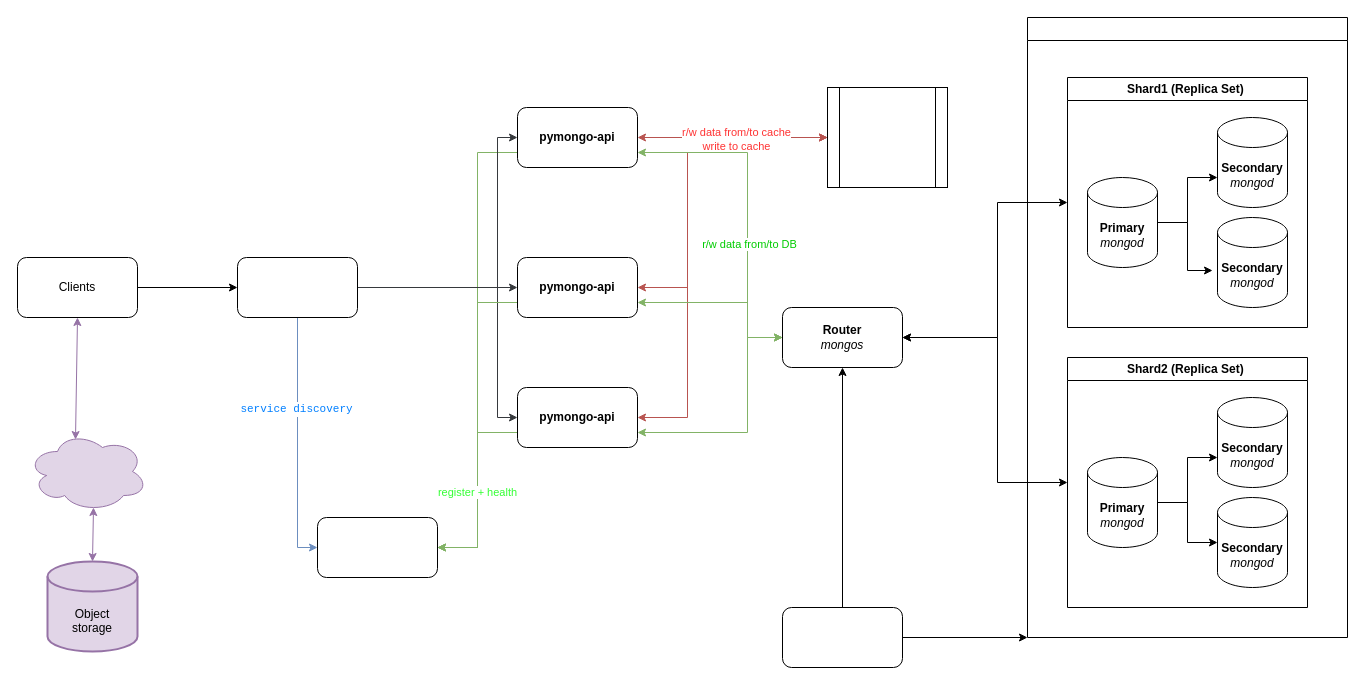
This 1365x685 diagram has some shape labels left out. The box of each missing label's shape, as (x1, y1, x2, y2) in pixels:
APISIX: (236, 256, 358, 318)
CDN: (26, 430, 148, 512)
Config Server mongod: (782, 606, 902, 668)
Consul: (316, 516, 438, 578)
Redis cache layer: (826, 86, 948, 188)
Sharded Cluster: (1026, 16, 1348, 638)
